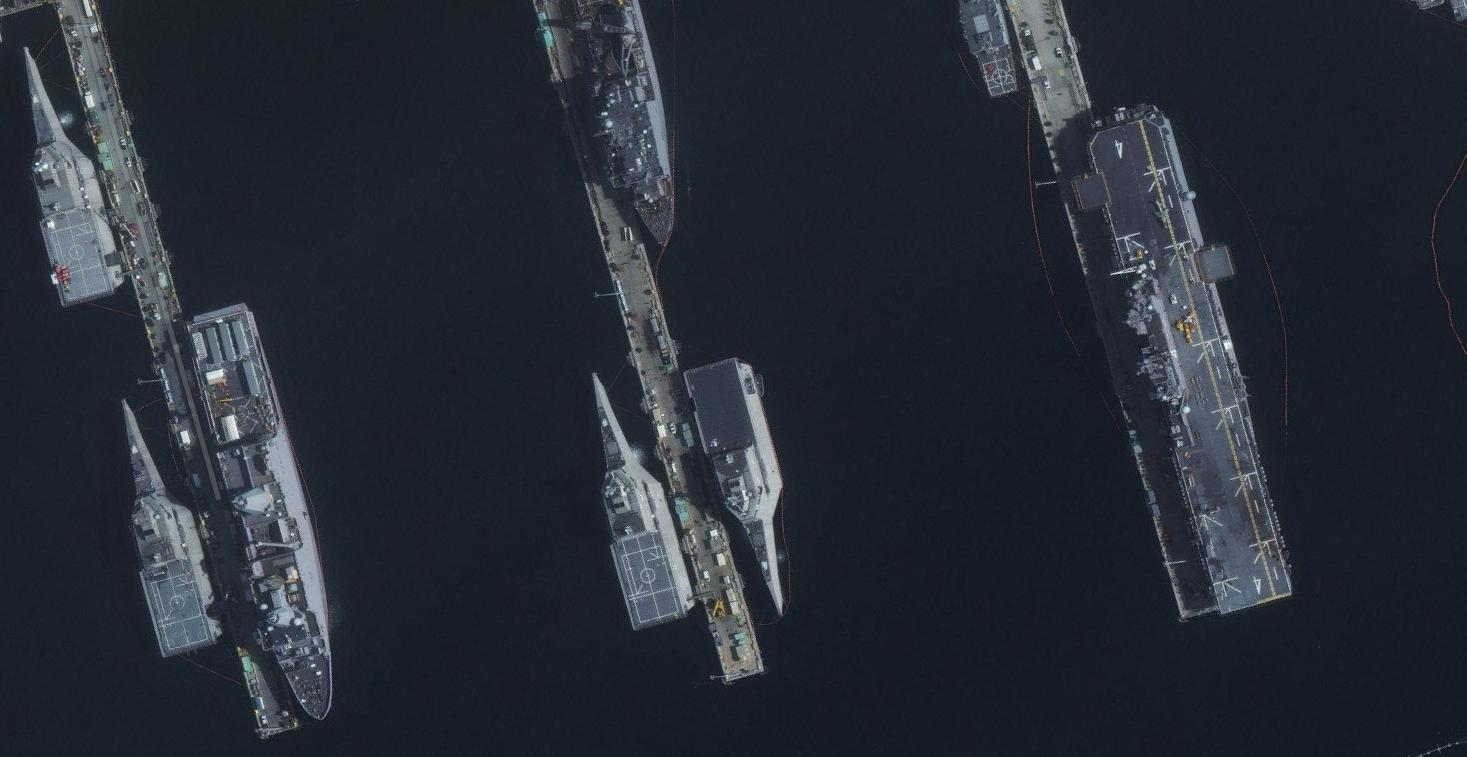amphiby: (178, 298, 370, 727)
littoral combat ship: (681, 341, 805, 620), (11, 38, 135, 313), (584, 365, 702, 638), (113, 392, 231, 664)
pha: (1066, 90, 1314, 621)
